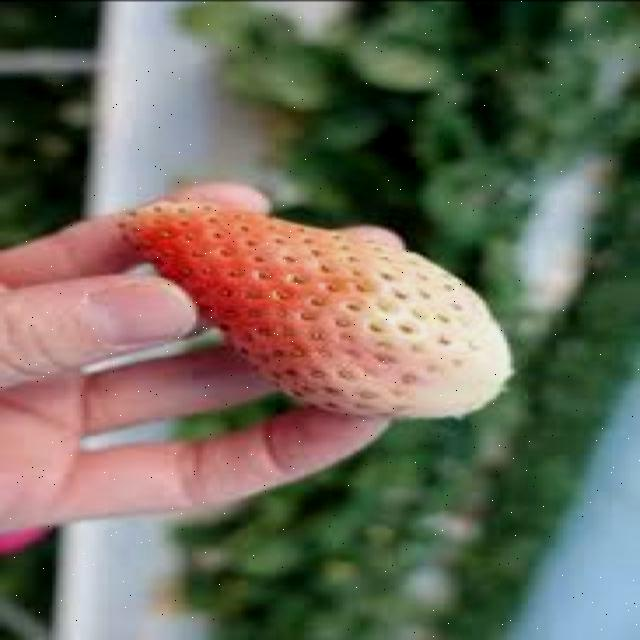unripe: (122, 198, 516, 419)
